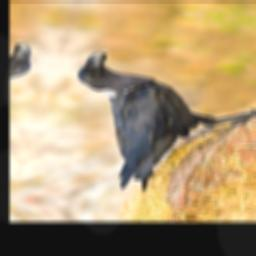Crow: (40, 47, 256, 202)
